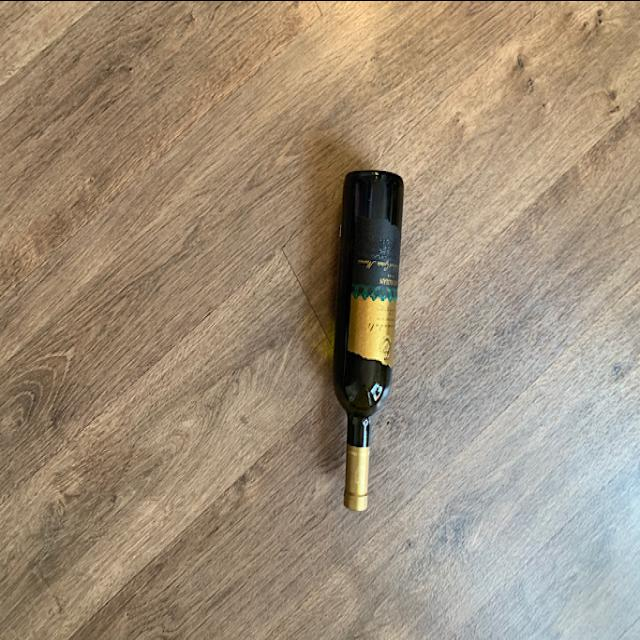litter: (331, 168, 409, 512)
